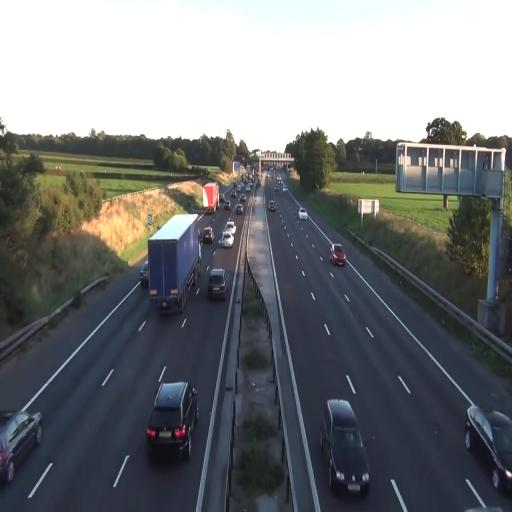vehicle: (321, 398, 371, 496), (464, 403, 512, 496), (146, 378, 199, 460), (0, 408, 44, 487), (208, 266, 229, 300), (221, 221, 236, 248), (330, 244, 346, 267), (140, 266, 149, 289), (202, 227, 214, 242), (298, 209, 308, 220)
